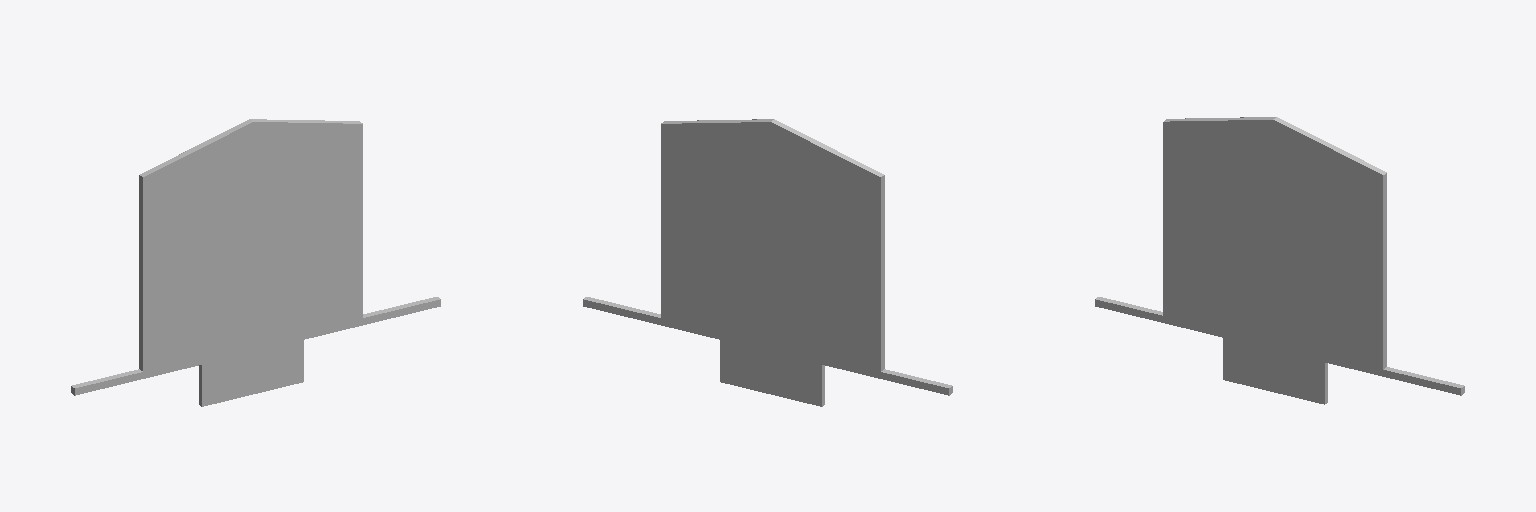
The model's file is sword.obj.
3 views of the same model, side by side, from view 1: azimuth 30°, elevation 25°; view 2: azimuth 150°, elevation 25°; view 3: azimuth 330°, elevation 25° (orthographic).
Parts seen in each view (by area): view 1: Cube; view 2: Cube; view 3: Cube.
Boxes of the visible parts, x1,y1,x2,y2 form: Cube: [71, 119, 440, 406]; Cube: [583, 119, 952, 406]; Cube: [1095, 117, 1464, 404].
Size of the model in its own units: 3.33 by 2.37 by 0.06.